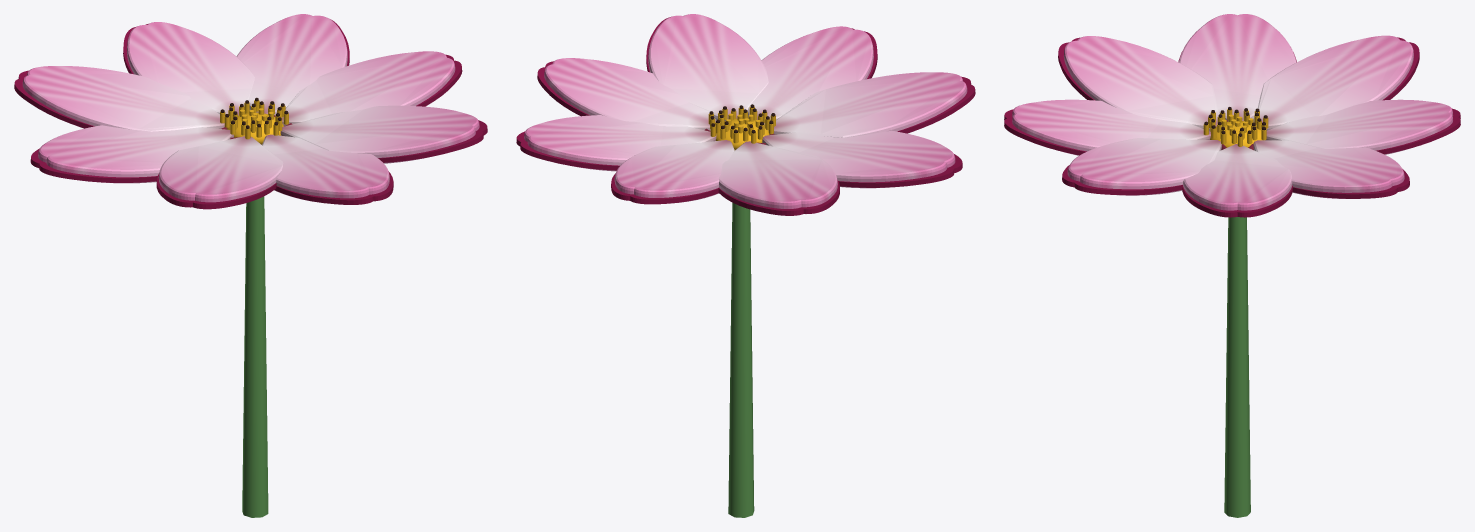
Rendered from cosmos-flower.glb.
The picture shows the model from 3 angles, left to right: view 1: azimuth 30°, elevation 25°; view 2: azimuth 150°, elevation 25°; view 3: azimuth 270°, elevation 25°; orthographic projection. The views are drawn at different scales.
Parts seen in each view (by area): view 1: part_12, part_4, part_10, stem, part_6, part_8, part_14, part_16, part_2, part_13, part_15, part_1 (+2 smaller); view 2: part_4, part_16, part_6, stem, part_2, part_14, part_12, part_8, part_10, part_13, part_11, part_9 (+2 smaller); view 3: part_16, part_12, part_14, stem, part_10, part_2, part_4, part_8, part_6, part_3, part_7, part_5 (+2 smaller).
Part boxes in pixels (box(x1,y1,x2,y2)): part_12: box(22, 66, 224, 131); part_4: box(280, 105, 479, 163); part_10: box(127, 22, 254, 115); stem: box(242, 196, 268, 517); part_6: box(282, 51, 455, 126); part_8: box(236, 14, 347, 115); part_14: box(38, 125, 233, 183); part_16: box(158, 136, 283, 202); part_2: box(262, 134, 389, 201); part_13: box(30, 148, 157, 182); part_15: box(156, 174, 276, 209); part_1: box(274, 171, 393, 204); part_4: box(648, 14, 768, 120); part_16: box(768, 72, 967, 137); part_6: box(544, 58, 716, 130); stem: box(728, 202, 754, 517); part_2: box(747, 26, 873, 125); part_14: box(762, 130, 955, 188); part_12: box(719, 141, 837, 208); part_8: box(524, 115, 716, 171); part_10: box(614, 140, 734, 203); part_13: box(838, 154, 962, 187); part_11: box(718, 180, 839, 215); part_9: box(611, 173, 718, 204); part_16: box(1063, 36, 1219, 131); part_12: box(1254, 35, 1413, 130); part_14: box(1178, 14, 1296, 122); stem: box(1224, 217, 1250, 517); part_10: box(1265, 99, 1452, 154); part_2: box(1012, 99, 1210, 155); part_4: box(1067, 138, 1221, 195); part_8: box(1253, 140, 1404, 198); part_6: box(1183, 144, 1292, 210); part_3: box(1062, 165, 1182, 195); part_7: box(1293, 169, 1409, 198); part_5: box(1182, 185, 1292, 217).
Size of the model in its own units: 0.3927 by 0.37 by 0.3782.
Materials: 7 (1 with a texture image).
